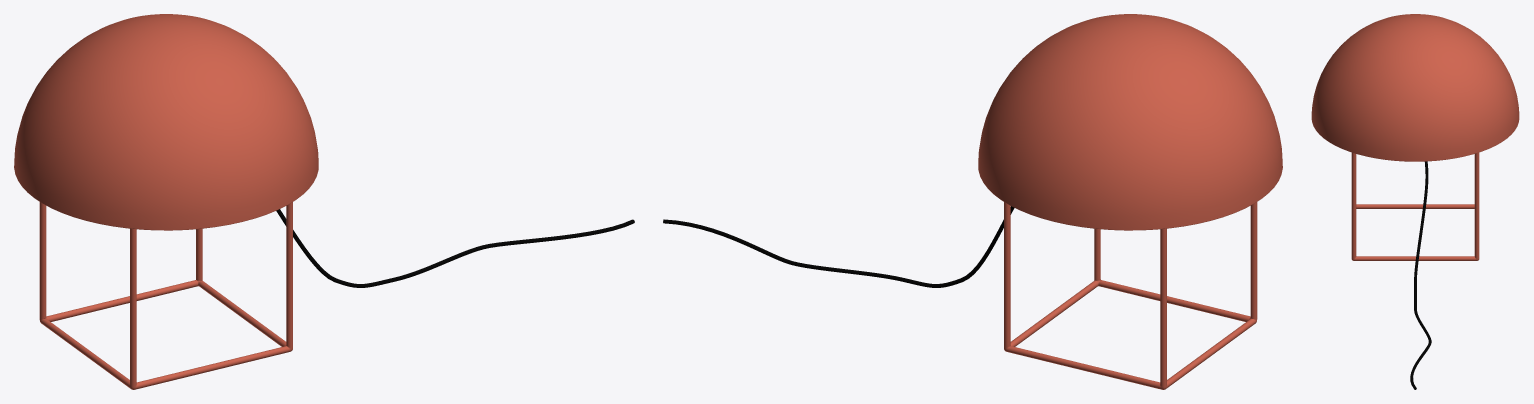
Rendered from Almerich_Coco_S_mat(3).fbx.
The picture shows the model from 3 angles, left to right: view 1: azimuth 30°, elevation 25°; view 2: azimuth 150°, elevation 25°; view 3: azimuth 270°, elevation 25°; orthographic projection. The views are drawn at different scales.
Parts seen in each view (by area): view 1: Almerich_Coco_S_mat3; view 2: Almerich_Coco_S_mat3; view 3: Almerich_Coco_S_mat3.
Part boxes in pixels (box(x1,y1,x2,y2)): Almerich_Coco_S_mat3: box(14, 14, 634, 389); Almerich_Coco_S_mat3: box(663, 14, 1282, 389); Almerich_Coco_S_mat3: box(1311, 14, 1519, 389).
Bounding box in the file's own units: 56.75 × 25 × 28.
